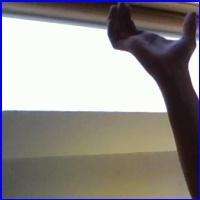space: (99, 4, 196, 74)
